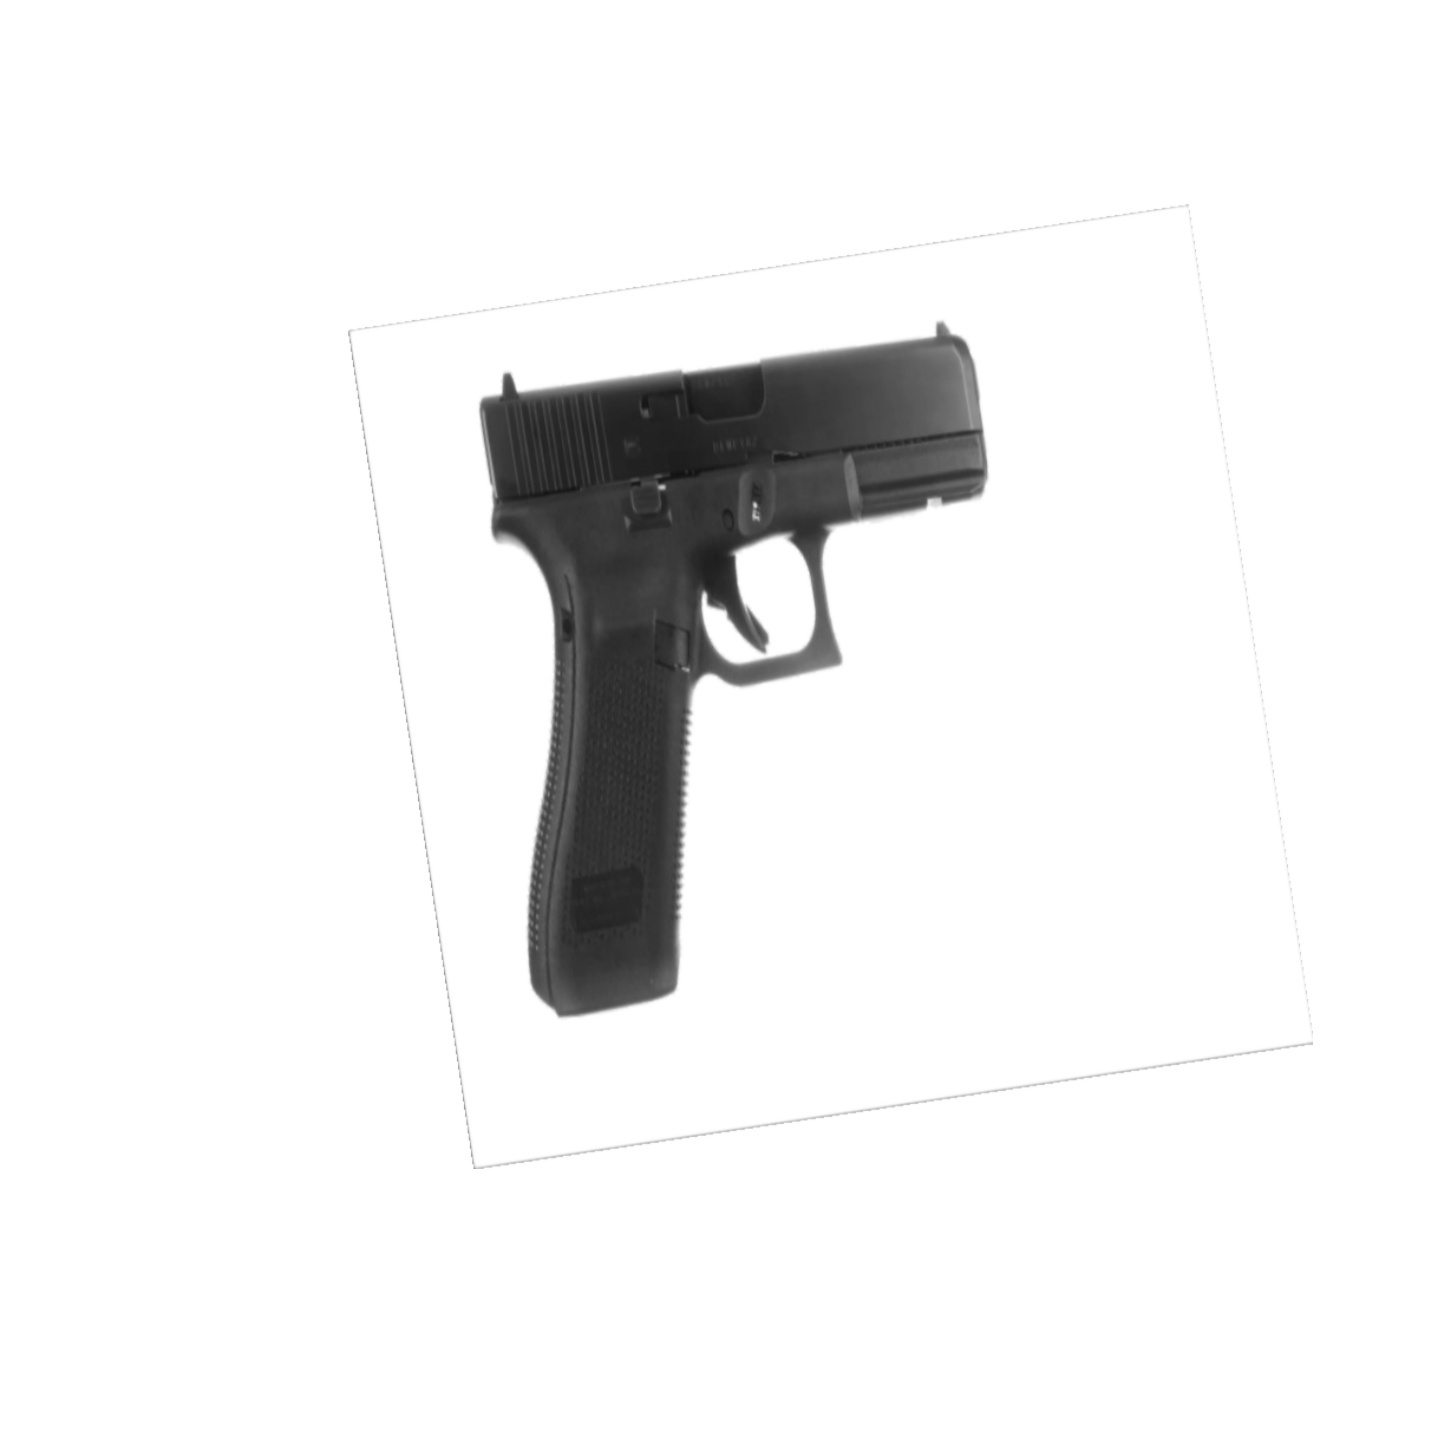gun: (482, 324, 998, 1018)
